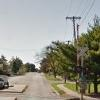Tree: (40, 32, 100, 78)
